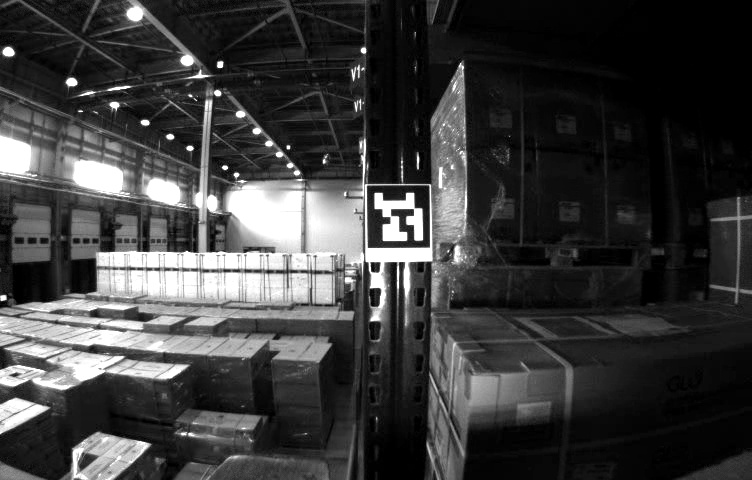True Barcode: (572, 463, 613, 480)
